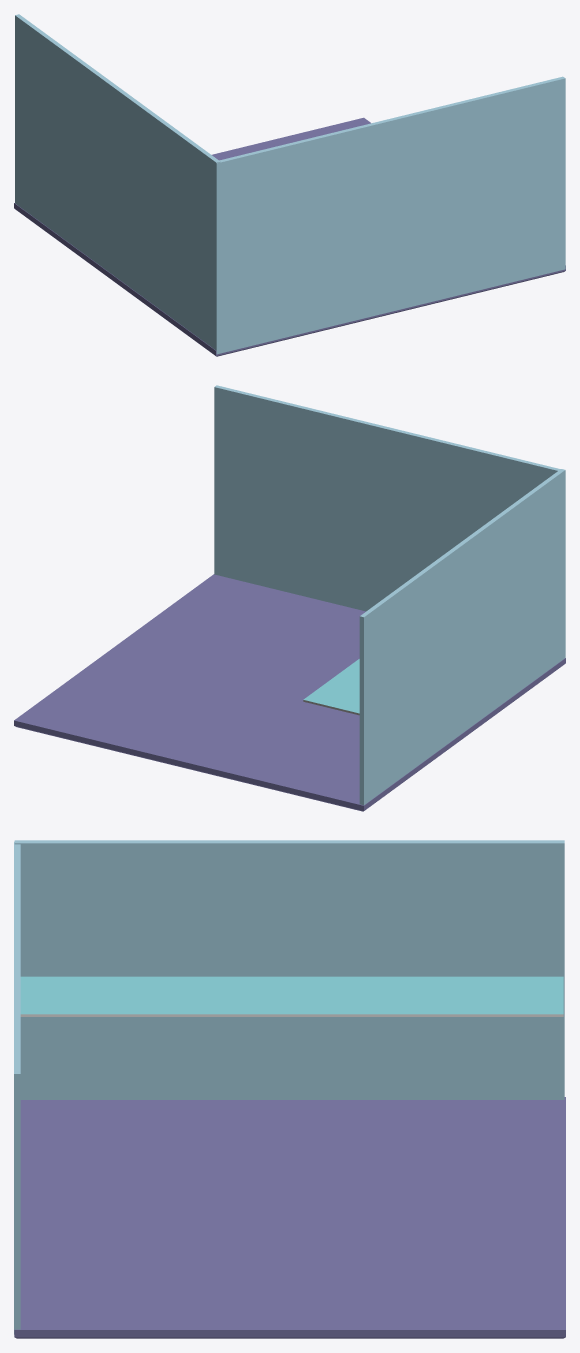
The model's file is The_true_Wok.fbx.
The picture shows the model from 3 angles, top to bottom: view 1: azimuth 30°, elevation 25°; view 2: azimuth 150°, elevation 25°; view 3: azimuth 270°, elevation 25°; orthographic projection. The views are drawn at different scales.
Parts seen in each view (by area): view 1: pasted__pCube6; view 2: pasted__pCube6; view 3: pasted__pCube6.
Boxes of the visible parts, x1,y1,x2,y2 form: pasted__pCube6: (14,14,565,356); pasted__pCube6: (14,385,565,811); pasted__pCube6: (14,840,565,1338).
Bounding box in the file's own units: 23.07 × 12.28 × 23.08.
